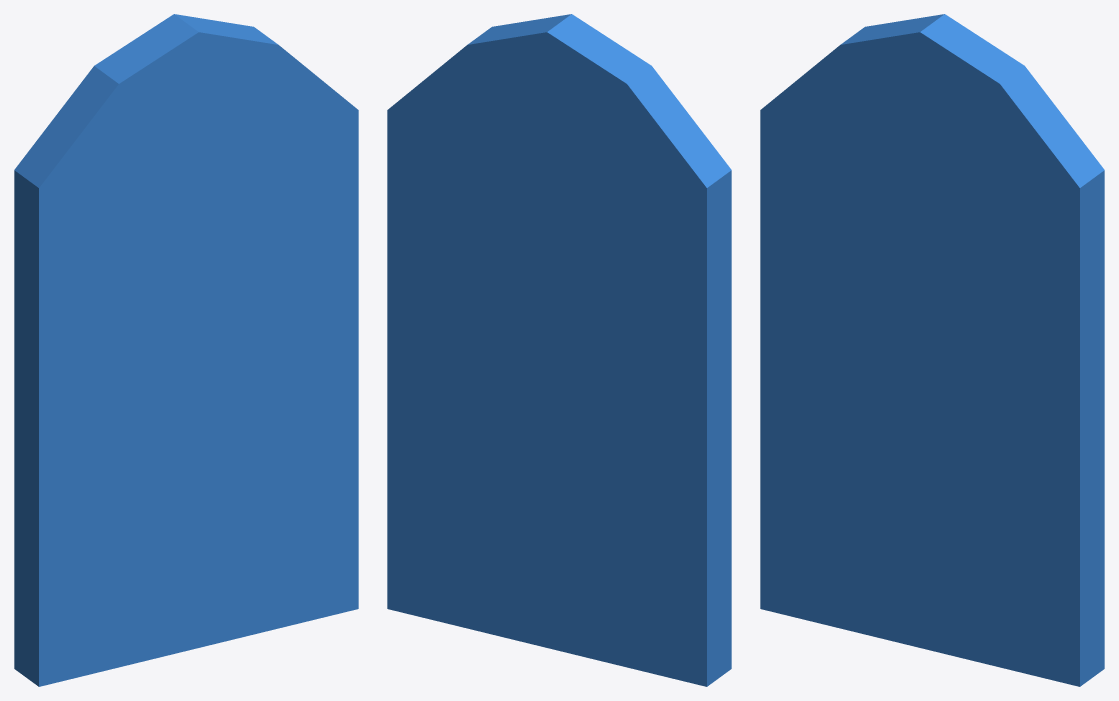
Rendered from Collision_WindowShutters_Thin_Round_Closed.fbx.
3 renders of one model, left to right at view 1: azimuth 30°, elevation 25°; view 2: azimuth 150°, elevation 25°; view 3: azimuth 330°, elevation 25°, orthographic.
Parts seen in each view (by area): view 1: UCX_WindowShutters_Thin_Round_Closed_1; view 2: UCX_WindowShutters_Thin_Round_Closed_1; view 3: UCX_WindowShutters_Thin_Round_Closed_1.
Boxes of the visible parts, <box> form: UCX_WindowShutters_Thin_Round_Closed_1: <box>14,14,358,686</box>; UCX_WindowShutters_Thin_Round_Closed_1: <box>387,14,731,686</box>; UCX_WindowShutters_Thin_Round_Closed_1: <box>760,14,1104,686</box>.
Size of the model in its own units: 86.04 by 158 by 11.57.
